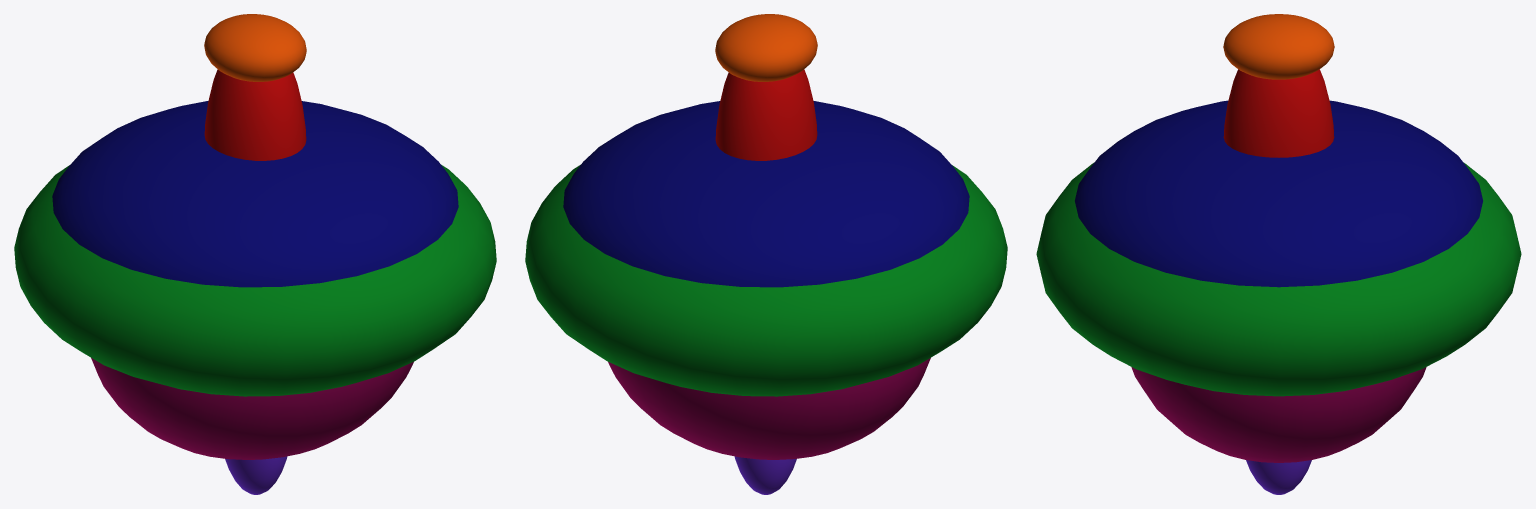
File: Spinning_Top(1).fbx
3 views of the same model, side by side, from view 1: azimuth 30°, elevation 25°; view 2: azimuth 150°, elevation 25°; view 3: azimuth 270°, elevation 25° (orthographic).
Visible parts, largest first — view 1: Sphere004; view 2: Sphere004; view 3: Sphere004.
Part boxes in pixels (x1=…): Sphere004: x1=14, y1=14, x2=496, y2=494; Sphere004: x1=525, y1=14, x2=1007, y2=494; Sphere004: x1=1036, y1=14, x2=1521, y2=494.
Size of the model in its own units: 38.46 by 41.3 by 38.46.
